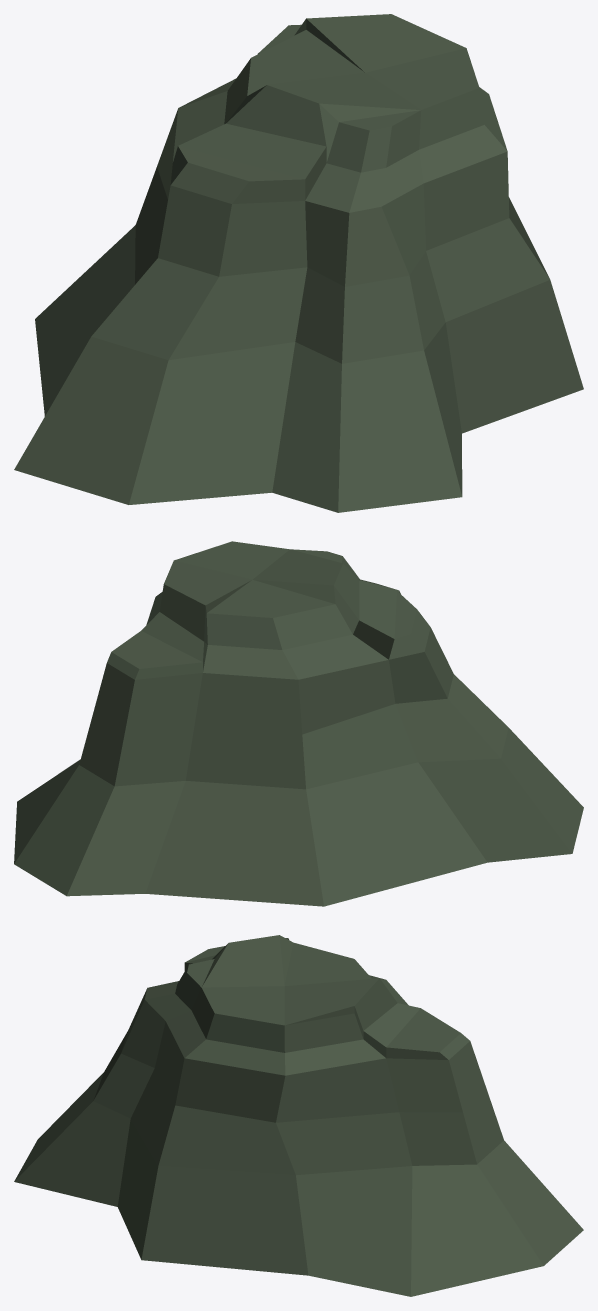
File: tree3.fbx
The picture shows the model from 3 angles, top to bottom: view 1: azimuth 30°, elevation 25°; view 2: azimuth 150°, elevation 25°; view 3: azimuth 270°, elevation 25°; orthographic projection. The views are drawn at different scales.
Visible parts, largest first — view 1: tree2_2; view 2: tree2_2; view 3: tree2_2.
Boxes of the visible parts, x1=… form: tree2_2: x1=14, y1=14, x2=583, y2=512; tree2_2: x1=14, y1=541, x2=583, y2=906; tree2_2: x1=14, y1=935, x2=583, y2=1296.
Bounding box in the file's own units: 117 × 54.65 × 120.
